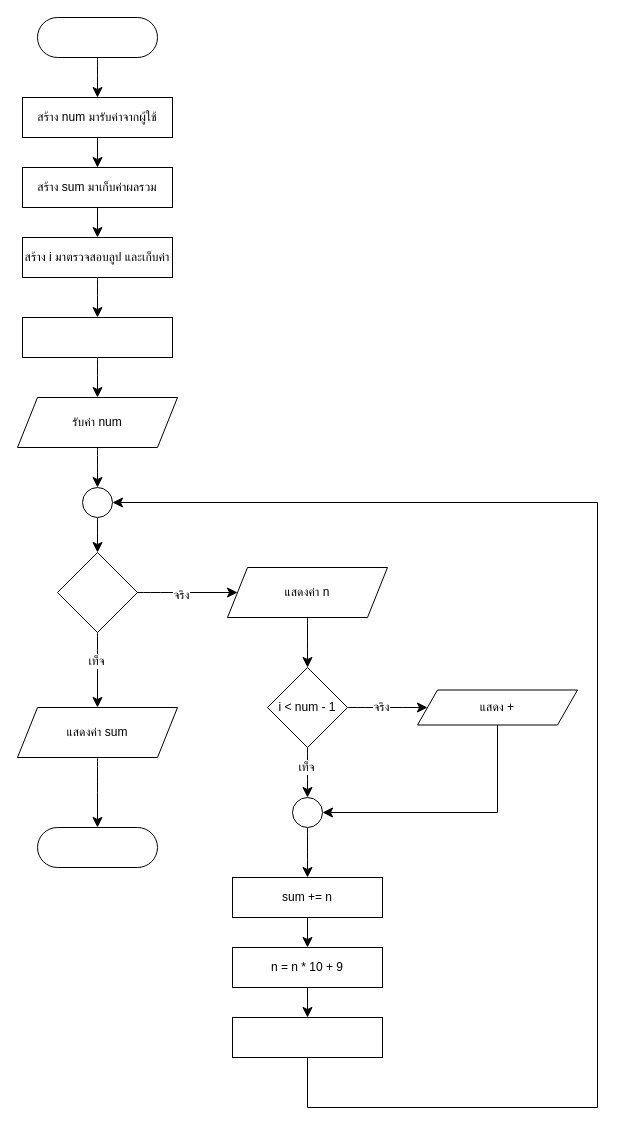
Image size: 625x1135. Some labels were removed from this diagram. The shapes that lost their labels are listed below. From the top down, each one's box as (x1, y1, x2, y2) in pixels, then its label:
(36, 16, 158, 58): เริ่มต้น
(22, 316, 172, 358): สร้าง n = 9 มาเพื่อเก็บค่า และแสดง
(56, 552, 138, 632): i < num
(36, 826, 158, 868): จบ
(232, 1016, 382, 1058): i + 1
